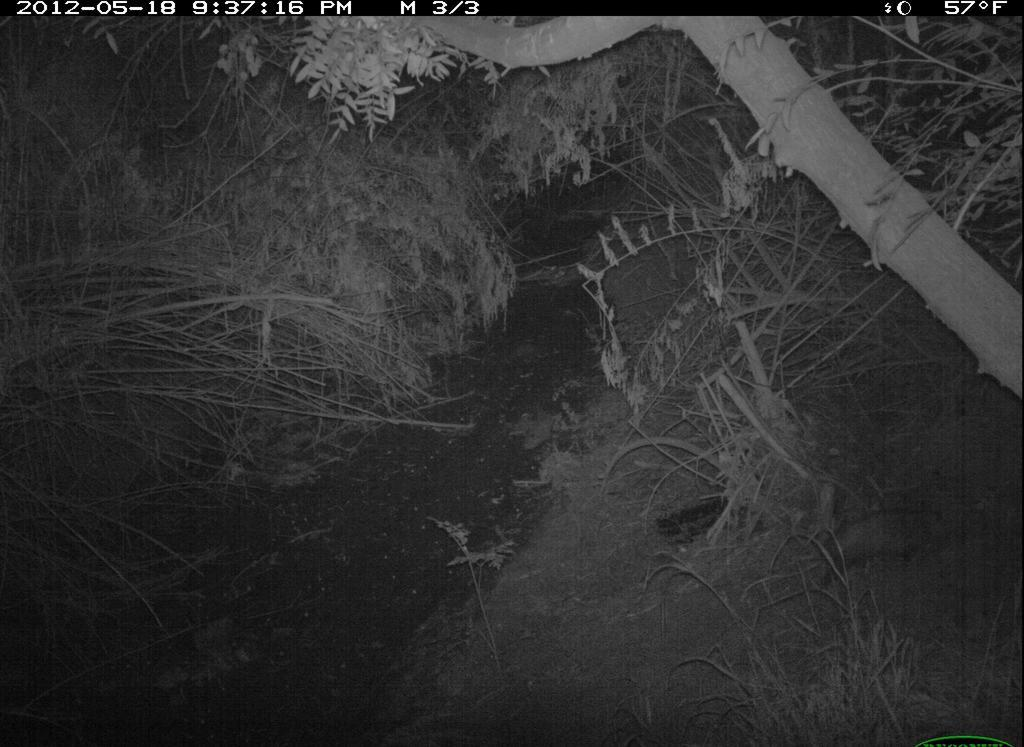opossum: (802, 493, 972, 591)
